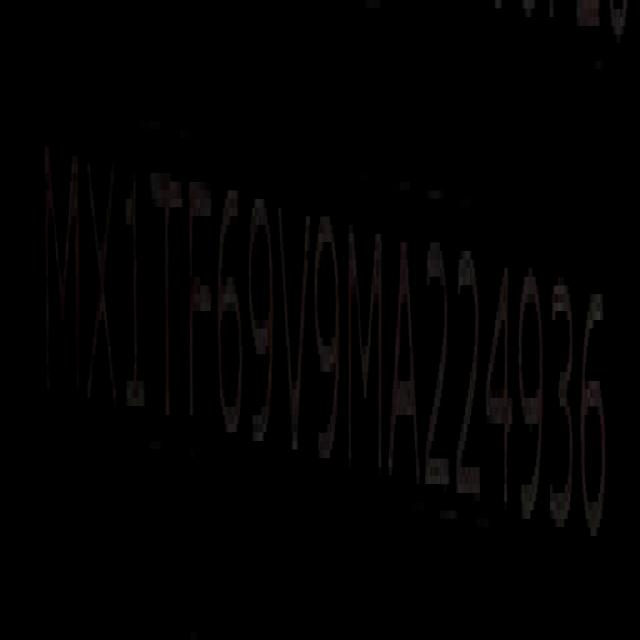1: (121, 158, 144, 436)
2: (425, 232, 451, 508), (457, 242, 483, 515)
3: (553, 274, 578, 538)
4: (486, 249, 514, 522)
6: (215, 184, 245, 453), (582, 289, 612, 548)
9: (518, 262, 547, 528), (314, 204, 342, 475), (249, 190, 277, 460)
A: (390, 218, 422, 494)
F: (188, 176, 215, 447)
M: (40, 138, 80, 428), (347, 211, 386, 500)
T: (153, 154, 183, 433)
V: (279, 191, 312, 467)
X: (86, 138, 120, 428)
